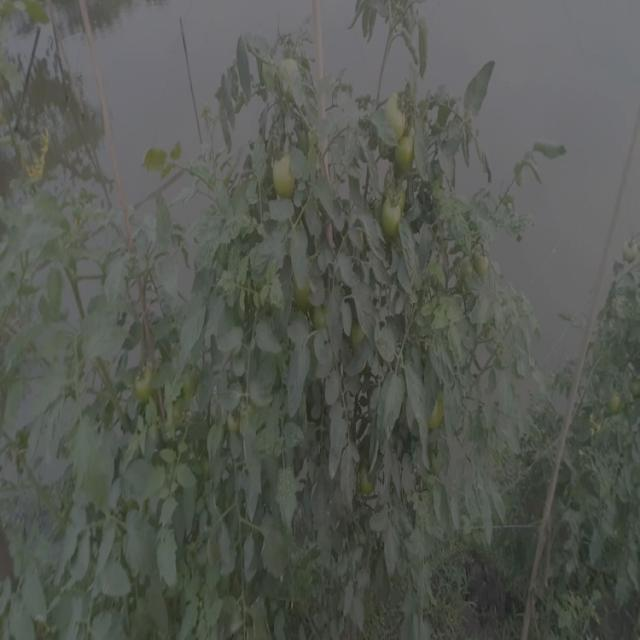tomato: (375, 182, 416, 241), (371, 90, 419, 134), (267, 147, 302, 201), (420, 387, 450, 433), (279, 54, 313, 93), (396, 133, 427, 172), (128, 366, 158, 401), (472, 248, 501, 284), (600, 381, 628, 416), (292, 275, 315, 311), (314, 309, 336, 342)
